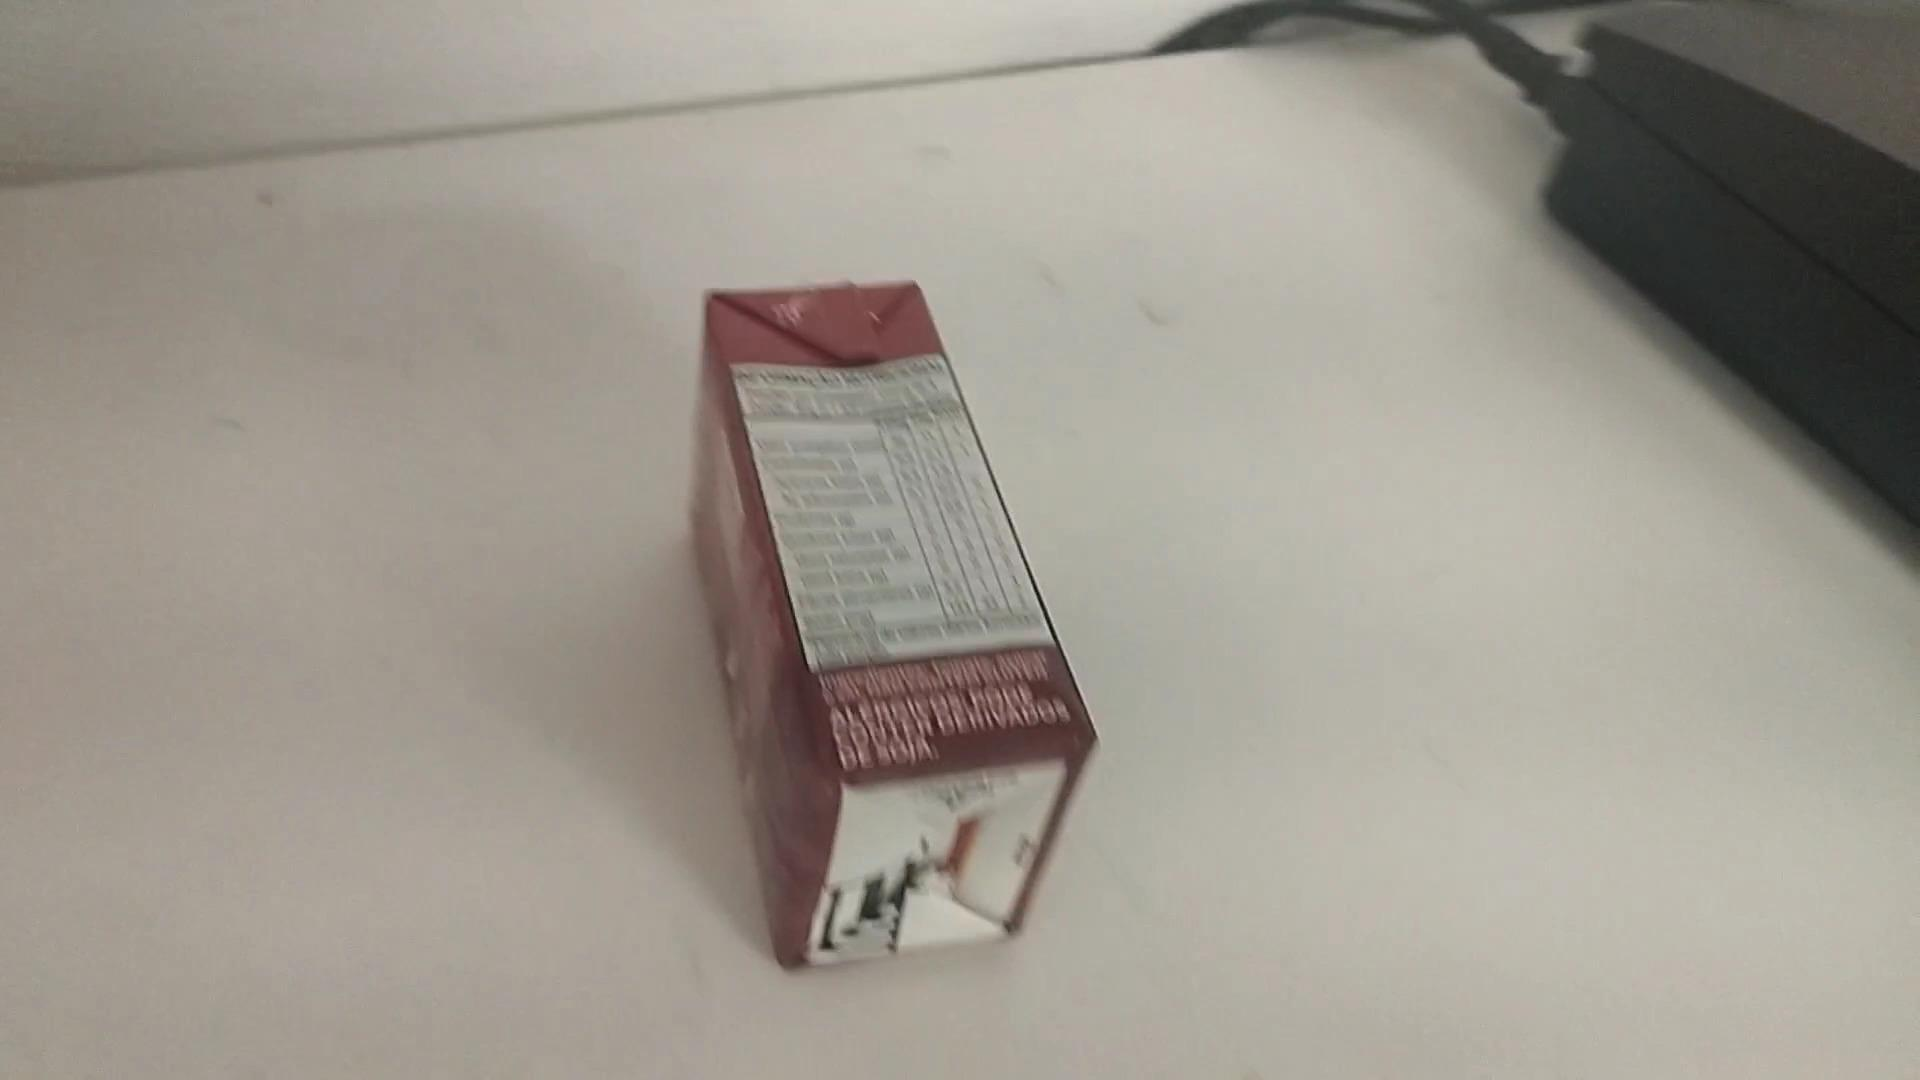tomate: (688, 261, 1116, 969)
